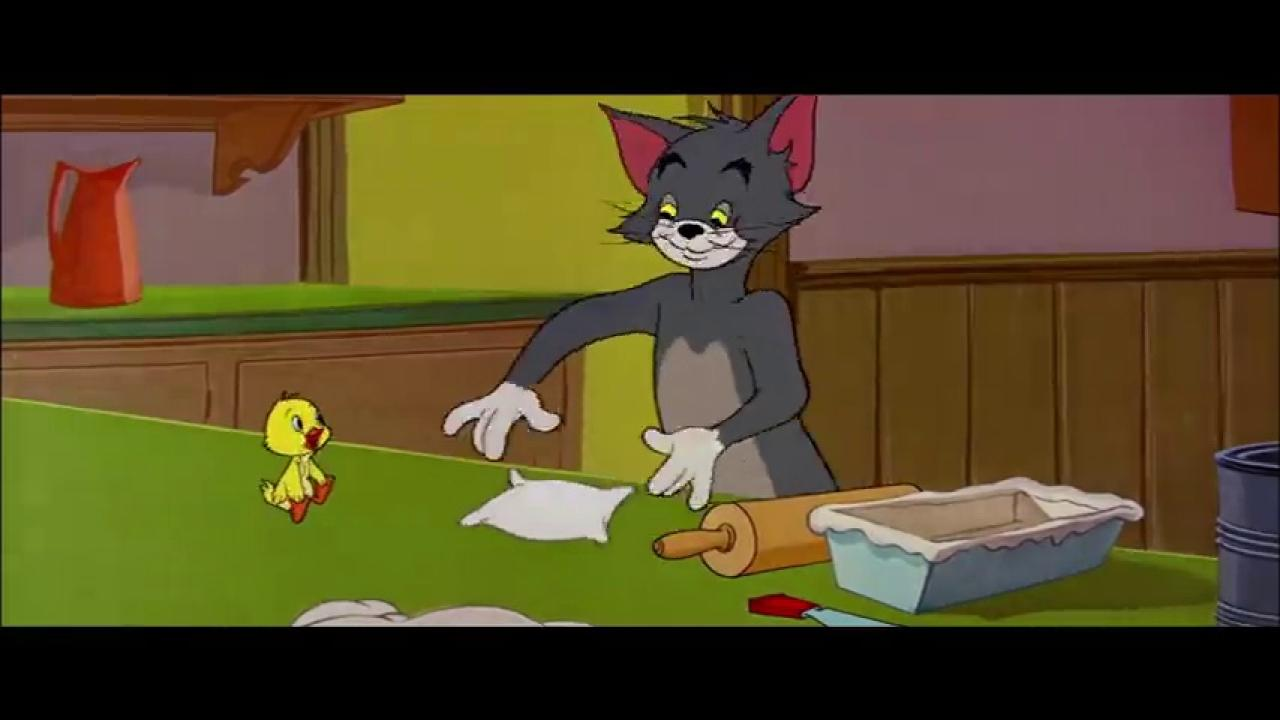Tom: (441, 91, 838, 511)
